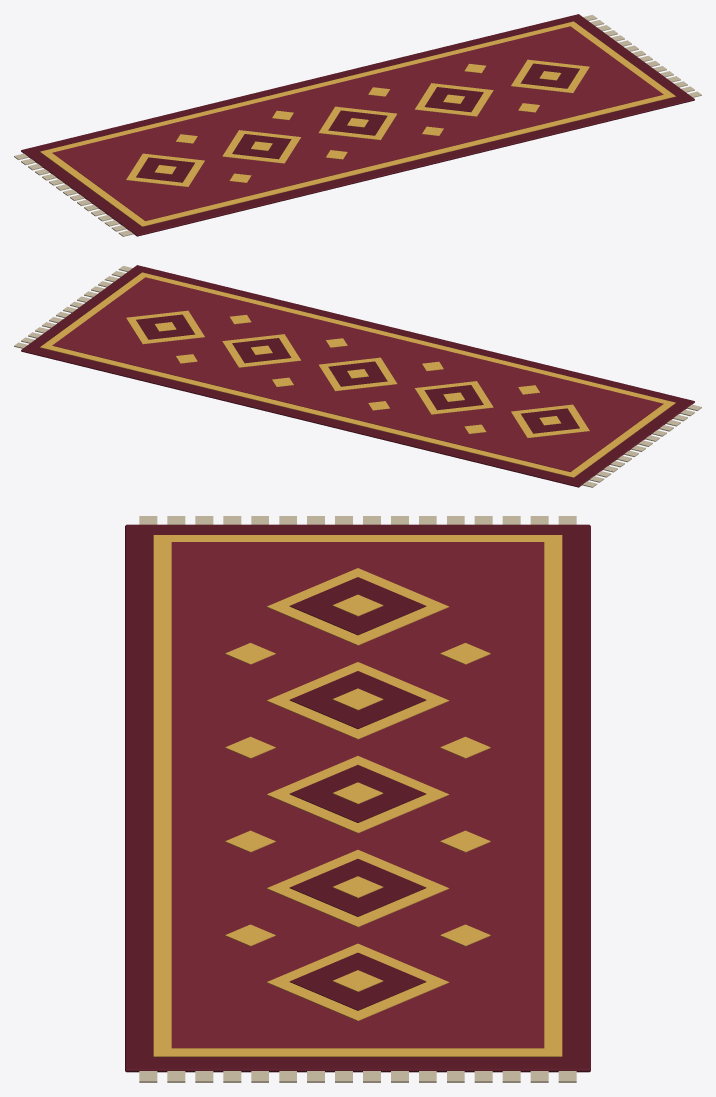
The model's file is rug-runner.glb.
The picture shows the model from 3 angles, top to bottom: view 1: azimuth 30°, elevation 25°; view 2: azimuth 150°, elevation 25°; view 3: azimuth 270°, elevation 25°; orthographic projection. The views are drawn at different scales.
Parts seen in each view (by area): view 1: rug-runner; view 2: rug-runner; view 3: rug-runner.
Part boxes in pixels (x1,y1,x2,y2): rug-runner: (14, 14, 701, 236); rug-runner: (14, 265, 701, 487); rug-runner: (125, 516, 590, 1082).
Size of the model in its own units: 3.73 by 0.023 by 1.3.
